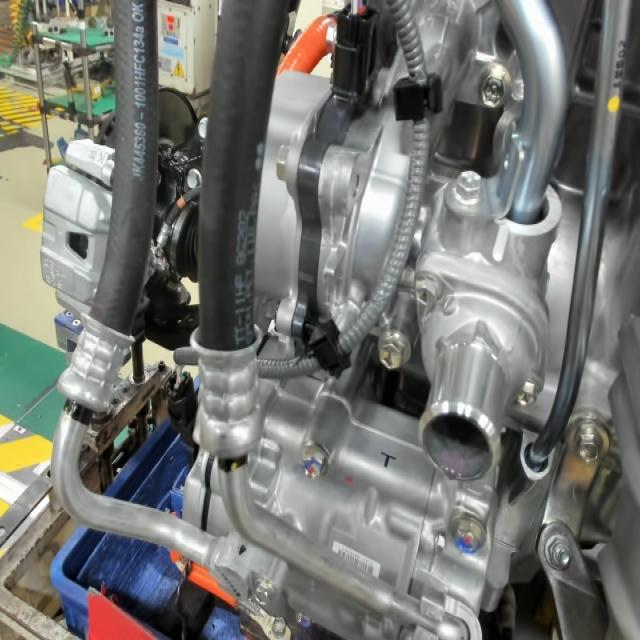Compressor-T: (374, 448, 402, 476)
